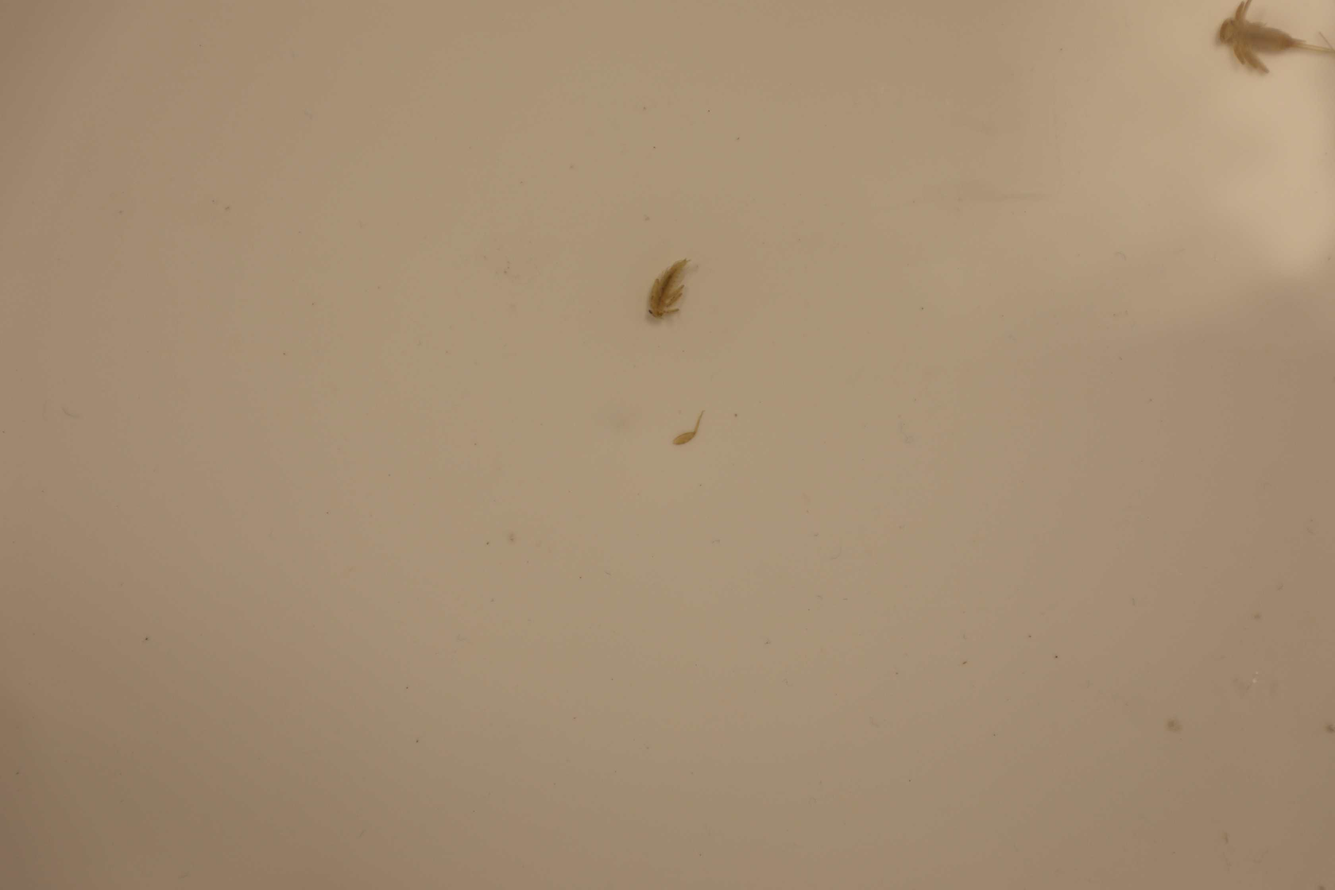Mayfly: (1209, 0, 1335, 84), (639, 254, 697, 329), (669, 409, 711, 452)
